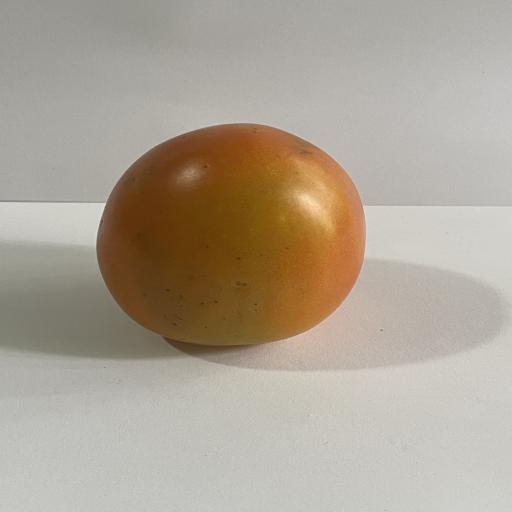unripe: (97, 124, 365, 345)
